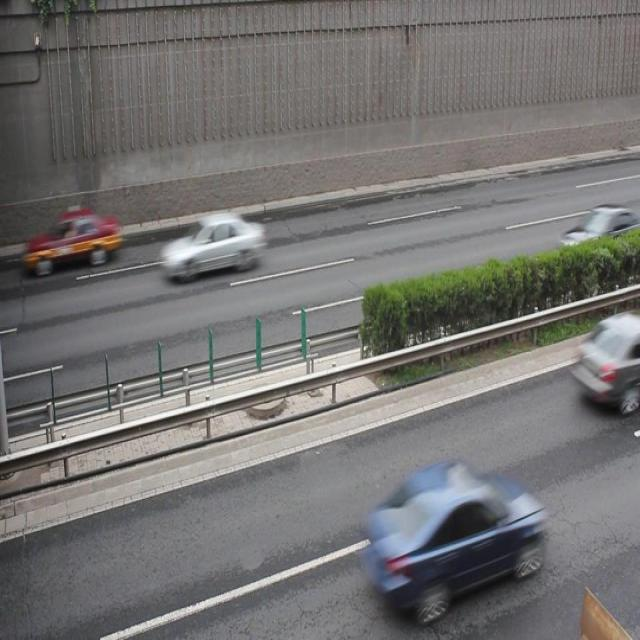car: (362, 459, 542, 610), (160, 210, 266, 281), (30, 208, 123, 272), (558, 205, 640, 269)
